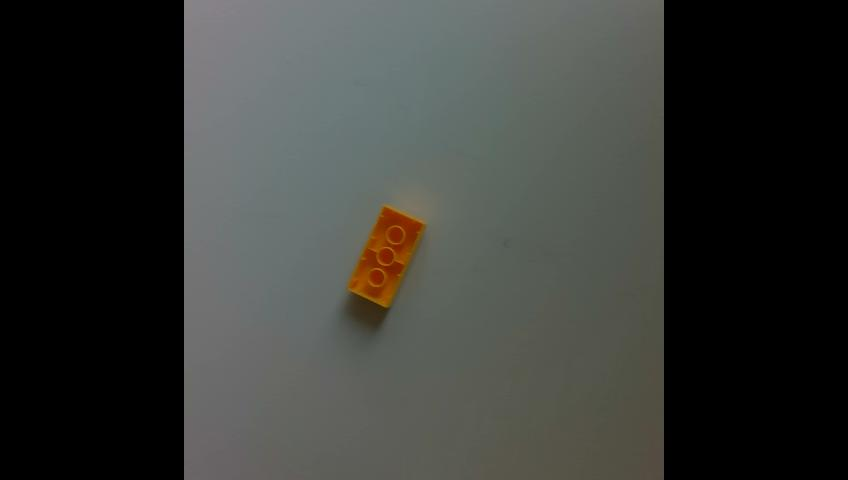4x2_yellow: (349, 204, 424, 304)
